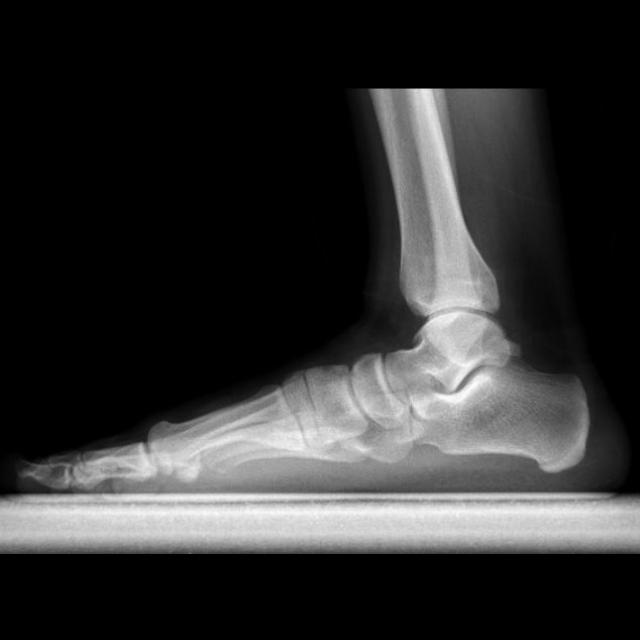a: (412, 356, 591, 473)
b: (350, 352, 403, 428)
c: (149, 381, 311, 470)
